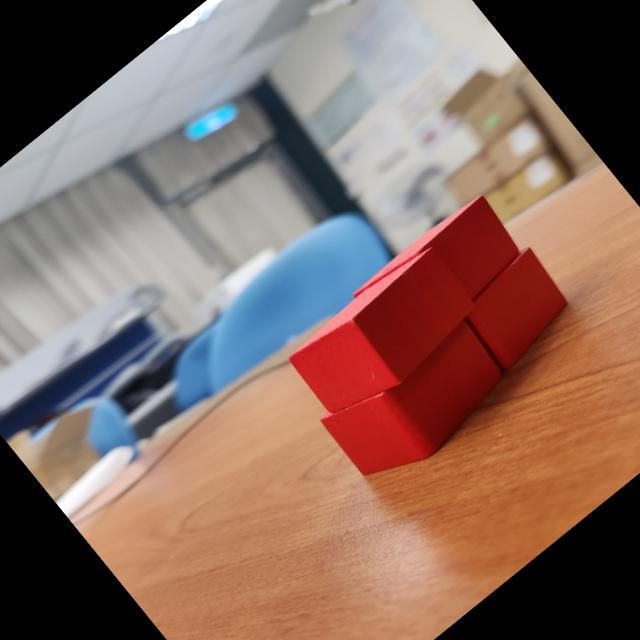red: (282, 238, 488, 431), (318, 305, 522, 499), (352, 188, 532, 356), (450, 242, 582, 372)
